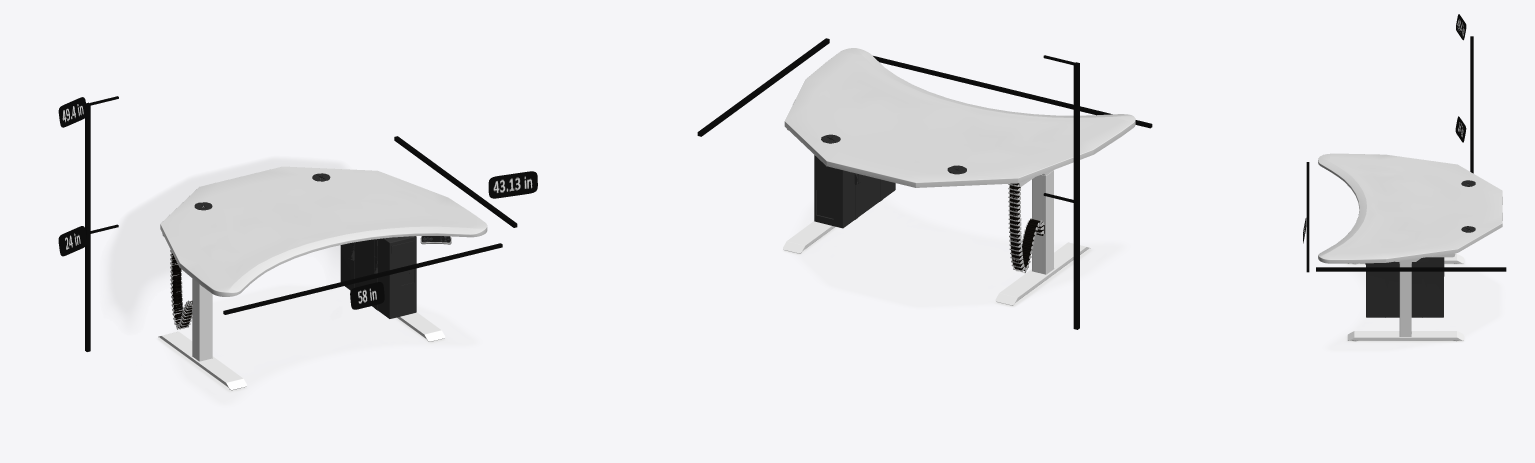
Rendered from battle_station.glb.
3 renders of one model, left to right at view 1: azimuth 30°, elevation 25°; view 2: azimuth 150°, elevation 25°; view 3: azimuth 270°, elevation 25°, orthographic. The views are drawn at different scales.
Parts seen in each view (by area): view 1: desk-top, shadowFloor-mojoDome-60, shadowWall-mojoDome-60, CPU Hangar, base-bottom, Cube.007, Cube.009, 30 label, MagicSnap Cable Chain Deluxe, 60 label, 23.8 label, 49.4 label; view 2: desk-top, shadowFloor-mojoDome-60, base-bottom, CPU Hangar, Cube.007, Cube.009, MagicSnap Cable Chain Deluxe; view 3: desk-top, shadowFloor-mojoDome-60, CPU Hangar, base-bottom, Cube.007, Cube.009.
Part boxes in pixels (bbox=[...]): desk-top: bbox=[160, 166, 487, 296]; shadowFloor-mojoDome-60: bbox=[157, 285, 476, 404]; shadowWall-mojoDome-60: bbox=[108, 158, 345, 321]; CPU Hangar: bbox=[340, 236, 416, 318]; base-bottom: bbox=[158, 278, 445, 390]; Cube.007: bbox=[223, 136, 517, 314]; Cube.009: bbox=[85, 96, 118, 351]; 30 label: bbox=[488, 171, 537, 198]; MagicSnap Cable Chain Deluxe: bbox=[170, 250, 192, 329]; 60 label: bbox=[350, 282, 384, 309]; 23.8 label: bbox=[58, 226, 86, 256]; 49.4 label: bbox=[58, 97, 86, 127]; desk-top: bbox=[784, 48, 1135, 187]; shadowFloor-mojoDome-60: bbox=[782, 199, 1123, 307]; base-bottom: bbox=[783, 170, 1090, 305]; CPU Hangar: bbox=[814, 155, 895, 228]; Cube.007: bbox=[697, 38, 1152, 136]; Cube.009: bbox=[1043, 55, 1079, 329]; MagicSnap Cable Chain Deluxe: bbox=[1008, 183, 1044, 272]; desk-top: bbox=[1318, 153, 1502, 263]; shadowFloor-mojoDome-60: bbox=[1327, 259, 1500, 350]; CPU Hangar: bbox=[1365, 257, 1444, 317]; base-bottom: bbox=[1347, 253, 1463, 341]; Cube.007: bbox=[1306, 162, 1506, 272]; Cube.009: bbox=[1470, 36, 1473, 173].
Bounding box in the file's own units: 2.33 × 1.74 × 1.4.
Materials: 19 (7 with a texture image).
